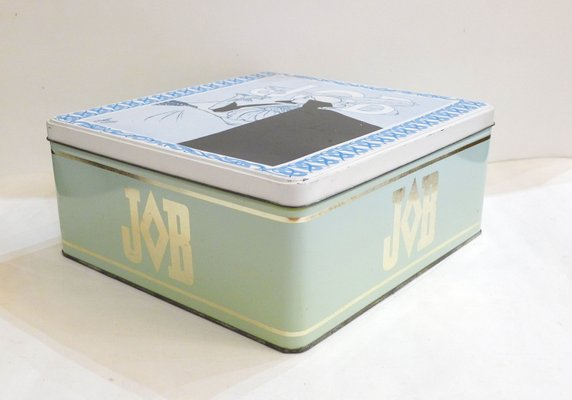metal: (44, 71, 495, 354)
